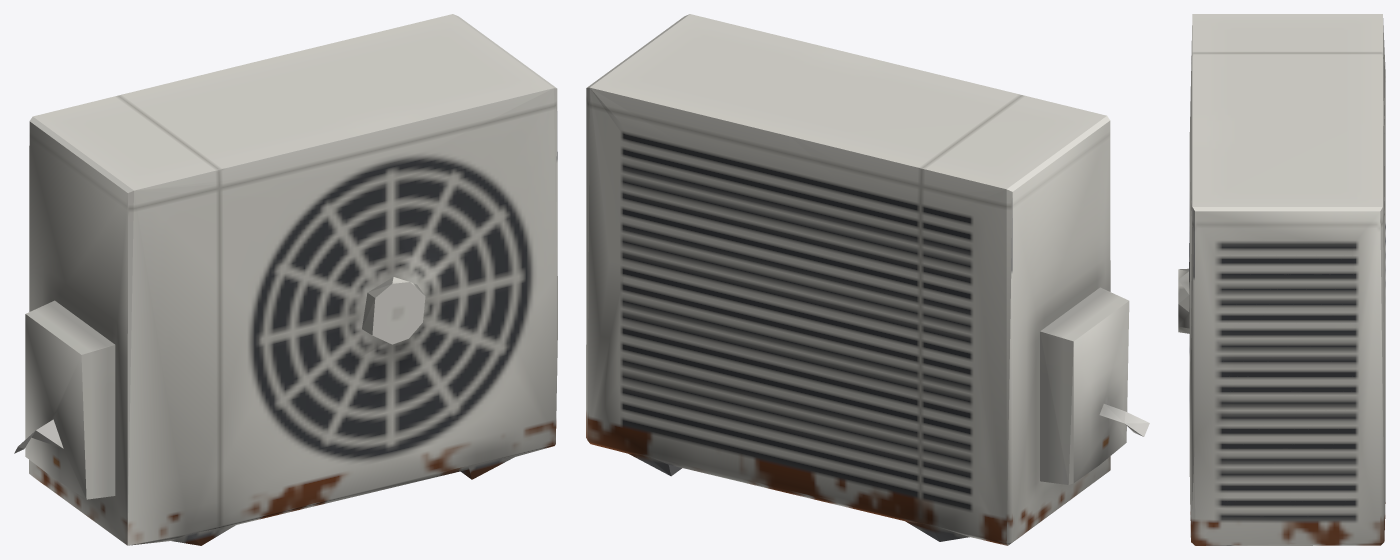
File: cuc_nong_may_lanh_edits.far.glb
3 renders of one model, left to right at view 1: azimuth 30°, elevation 25°; view 2: azimuth 150°, elevation 25°; view 3: azimuth 270°, elevation 25°, orthographic. The views are drawn at different scales.
Parts seen in each view (by area): view 1: cuc_nong_may_lanh_edits; view 2: cuc_nong_may_lanh_edits; view 3: cuc_nong_may_lanh_edits.
Boxes of the visible parts, box(x1,y1,x2,y2) form: cuc_nong_may_lanh_edits: box(14, 14, 557, 545); cuc_nong_may_lanh_edits: box(586, 14, 1149, 545); cuc_nong_may_lanh_edits: box(1178, 14, 1385, 545).
Size of the model in its own units: 0.7706 by 0.5465 by 0.291.
1 material, 1 textured.
